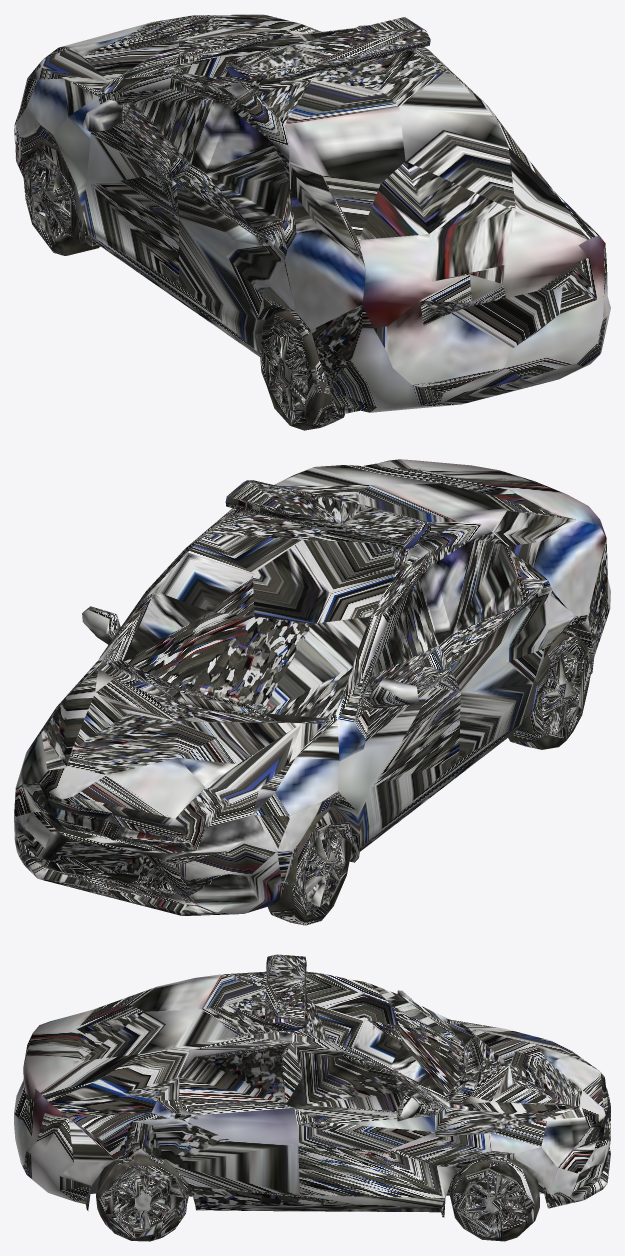
File: Police_Sedan_DPS_22k.glb
3 views of the same model, one above another, from view 1: azimuth 30°, elevation 25°; view 2: azimuth 150°, elevation 25°; view 3: azimuth 270°, elevation 25° (orthographic). The views are drawn at different scales.
Visible parts, largest first — view 1: output_unwrapped; view 2: output_unwrapped; view 3: output_unwrapped.
Part boxes in pixels (box(x1,y1,x2,y2)): output_unwrapped: box(14, 14, 610, 430); output_unwrapped: box(14, 459, 610, 925); output_unwrapped: box(14, 954, 610, 1241).
Size of the model in its own units: 2.23 by 1.77 by 4.59.
Materials: 1 (1 with a texture image).
